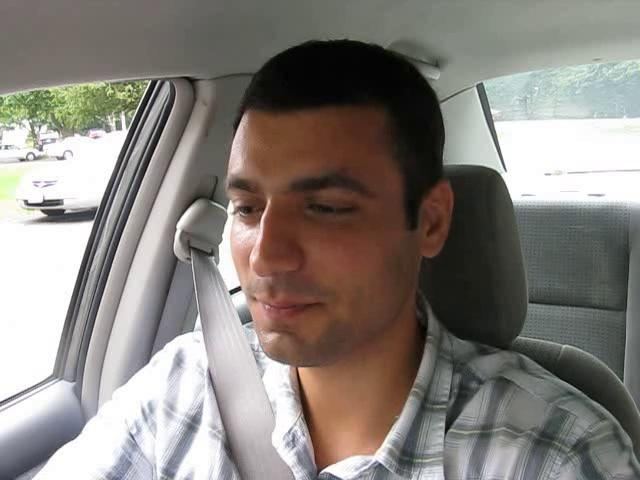close_eyeL: (217, 189, 275, 234)
close_eyeR: (286, 184, 375, 234)
no_yawn: (238, 280, 337, 335)
